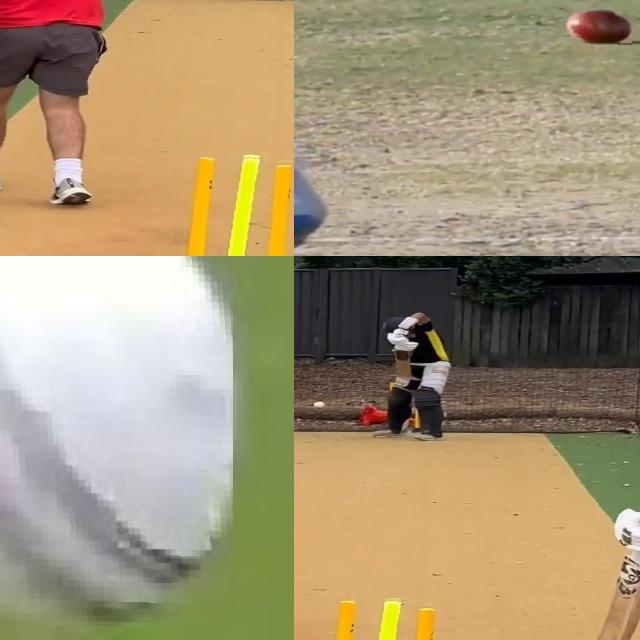Cricket ball: (0, 256, 233, 626), (563, 6, 632, 45), (311, 400, 327, 410)
Stumps: (174, 154, 294, 256), (319, 595, 457, 640)
